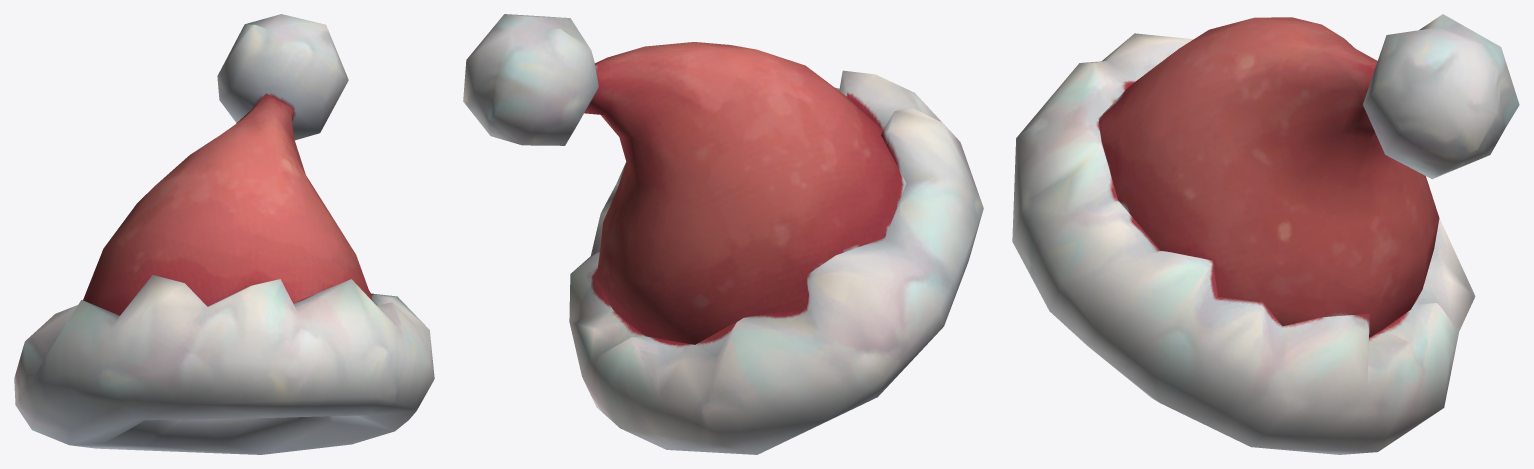
The model's file is Homeworld_Exterior_Common_Prop_Thing_SnowmanHat_03_Vo.fbx.
3 views of the same model, side by side, from view 1: azimuth 30°, elevation 25°; view 2: azimuth 150°, elevation 25°; view 3: azimuth 270°, elevation 25° (orthographic). The views are drawn at different scales.
Visible parts, largest first — view 1: Homeworld_Exterior_Common_Prop_Thing_SnowmanHat_03_Vo; view 2: Homeworld_Exterior_Common_Prop_Thing_SnowmanHat_03_Vo; view 3: Homeworld_Exterior_Common_Prop_Thing_SnowmanHat_03_Vo.
Boxes of the visible parts, left/top/right/bottom form: Homeworld_Exterior_Common_Prop_Thing_SnowmanHat_03_Vo: left=14, top=14, right=434, bottom=454; Homeworld_Exterior_Common_Prop_Thing_SnowmanHat_03_Vo: left=463, top=14, right=983, bottom=454; Homeworld_Exterior_Common_Prop_Thing_SnowmanHat_03_Vo: left=1012, top=14, right=1519, bottom=454.
Size of the model in its own units: 0.8313 by 0.817 by 0.822.
